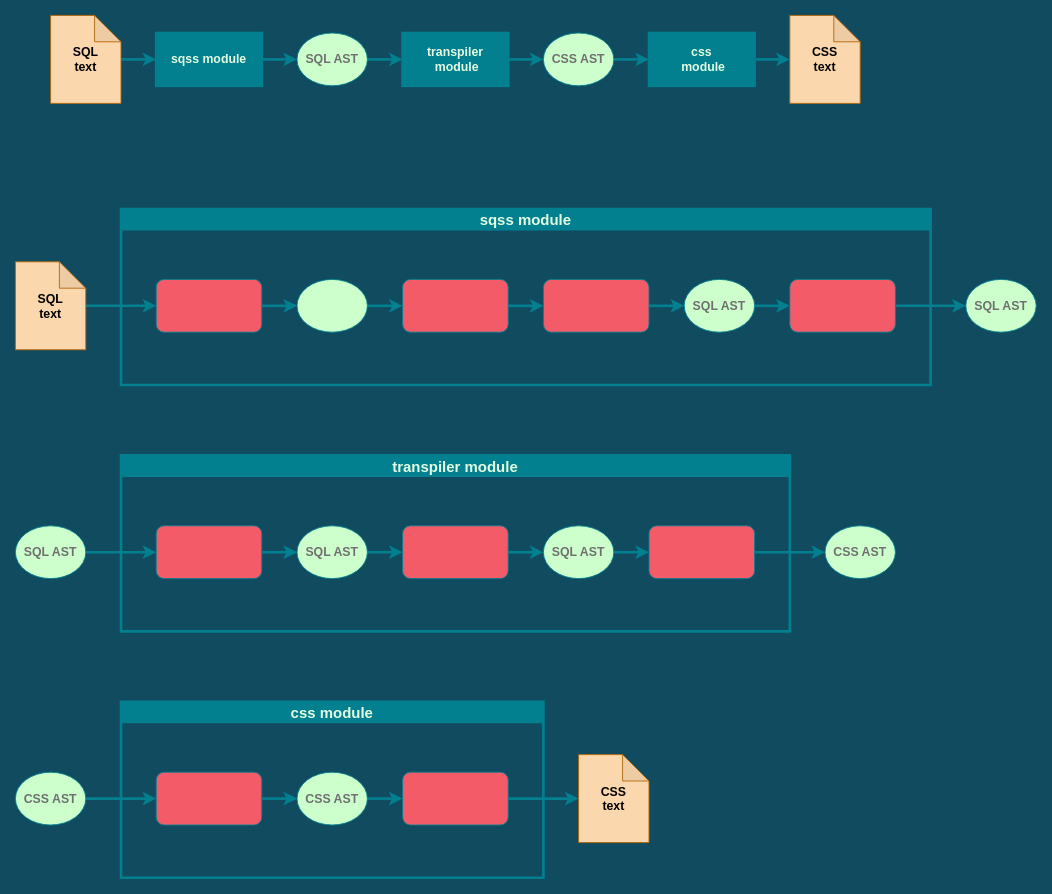
Image size: 1052x894. Some labels were removed from this diagram. Each missing label, with the centre of its shape:
Expresion Flattener: the point at 455,552
Generator: the point at 455,798
Lexer: the point at 208,305
Negation Simplifer: the point at 208,552
Parser: the point at 596,305
Semantic Analyzer: the point at 842,305
tokens: the point at 331,305
TokenStream: the point at 455,305
Transpiler: the point at 701,552
Validator: the point at 208,798
